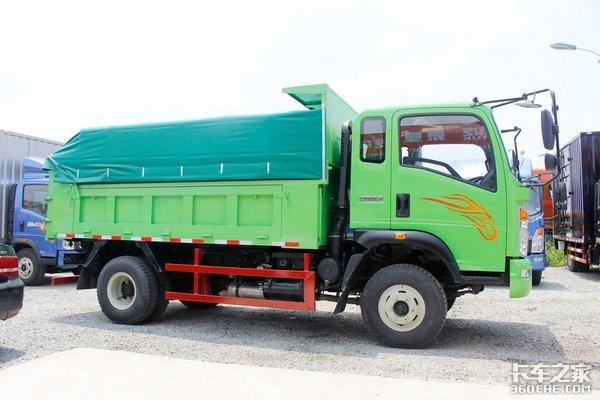truck: (45, 71, 560, 346)
